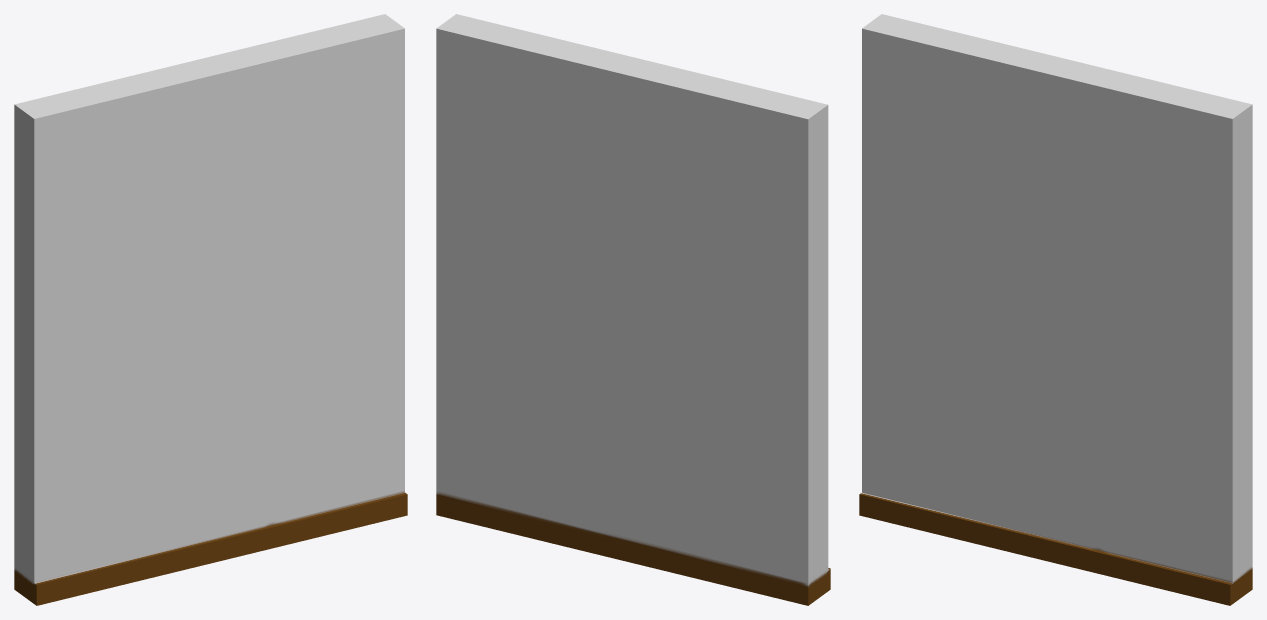
File: BgMD_wall1.fbx
3 views of the same model, side by side, from view 1: azimuth 30°, elevation 25°; view 2: azimuth 150°, elevation 25°; view 3: azimuth 330°, elevation 25° (orthographic).
Visible parts, largest first — view 1: pCube1; view 2: pCube1; view 3: pCube1.
Part boxes in pixels (x1,y1,x2,y2): pCube1: (14, 14, 407, 605); pCube1: (436, 14, 830, 605); pCube1: (859, 14, 1252, 605).
Size of the model in its own units: 200 by 250 by 20.9.
